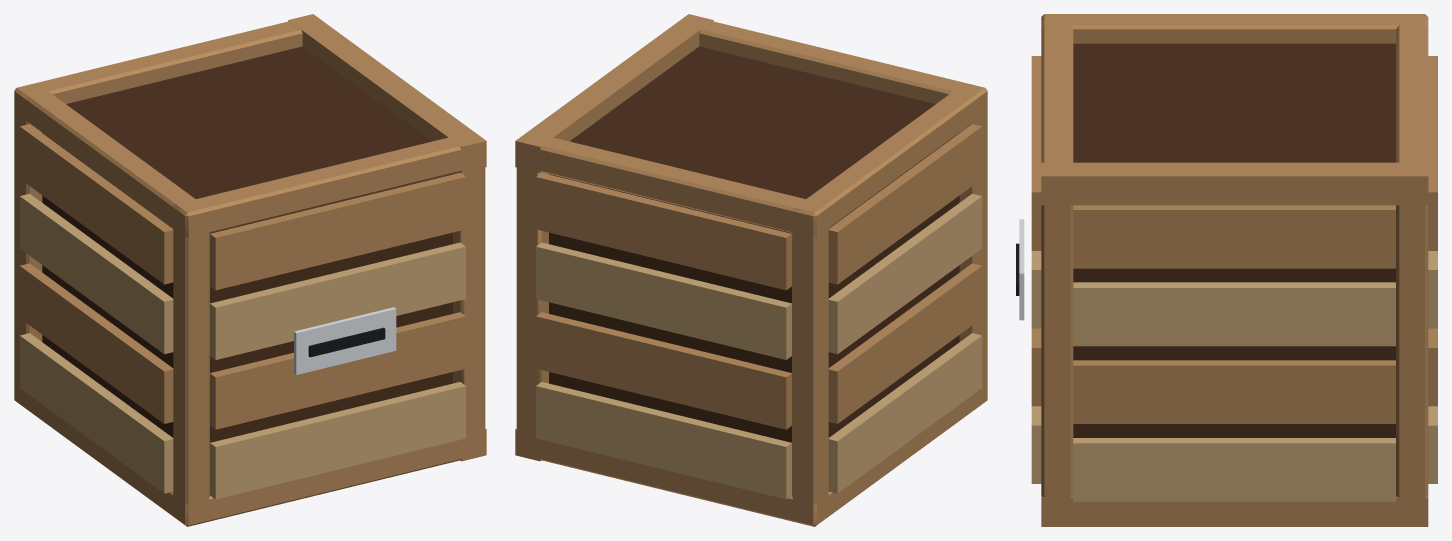
Rendered from crate_wood_slat_06.glb.
3 views of the same model, side by side, from view 1: azimuth 30°, elevation 25°; view 2: azimuth 150°, elevation 25°; view 3: azimuth 270°, elevation 25° (orthographic). The views are drawn at different scales.
Visible parts, largest first — view 1: crate_wood_slat_06; view 2: crate_wood_slat_06; view 3: crate_wood_slat_06.
Boxes of the visible parts, box(x1,y1,x2,y2) form: crate_wood_slat_06: box(14, 14, 486, 526); crate_wood_slat_06: box(515, 14, 987, 526); crate_wood_slat_06: box(1016, 14, 1437, 526).
Bounding box in the file's own units: 0.63 × 0.6 × 0.654.
